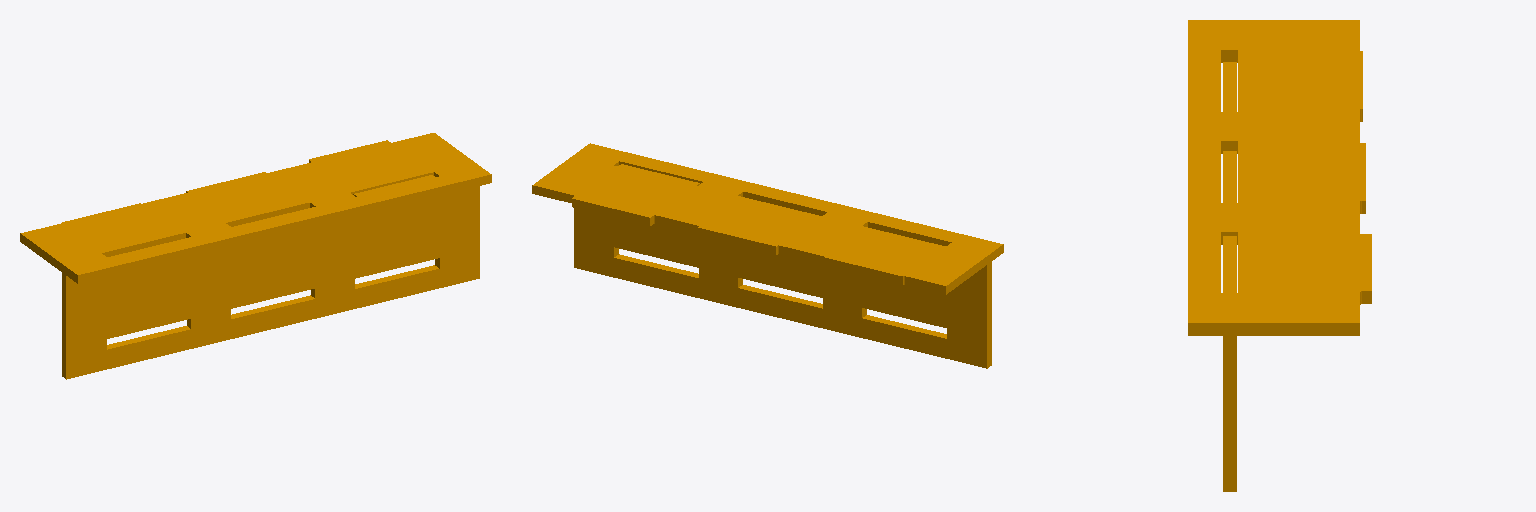
The robot description file, URDF, robot "MortiseTenonJoint":
<?xml version="1.0" encoding="utf-8"?>
<robot xmlns:xacro="http://wiki.ros.org/xacro" name="MortiseTenonJoint" params="prefix">
  <link name="Mortise_Tenon_Joint_link">
    <inertial>
      <origin xyz="-0.34511 0.10147 0.053717" rpy="0 0 0" />
      <mass value="10.387" />
      <inertia ixx="0.034636" ixy="-0.0016985" ixz="-0.0013353" iyy="0.48099" iyz="0.00040264" izz="0.48354" />
    </inertial>

    <visual>
      <origin xyz="0 0 0" rpy="0 0 0" />
      <geometry>
        <mesh filename="package://processit_support/data/KogRob/MortiseTenonJoint/MortiseTenonJoint.STL" scale="0.001 0.001 0.001"/>
      </geometry>
    </visual>

    <collision>
      <origin xyz="0 0 0" rpy="0 0 0" />
      <geometry>
        <mesh filename="package://processit_support/data/KogRob/MortiseTenonJoint/MortiseTenonJoint.STL" scale="0.001 0.001 0.001"/>
      </geometry>
    </collision>
  </link>

  <gazebo reference="Mortise_Tenon_Joint_link">
    <material>Gazebo/Orange</material>
    <turnGravityOff>true</turnGravityOff>
  </gazebo>
</robot>

--- Facts derived from the render (not from the file) ---
Views: 3 orthographic renders of the robot side by side, from view 1: azimuth 30°, elevation 25°; view 2: azimuth 150°, elevation 25°; view 3: azimuth 270°, elevation 25°.
Model MortiseTenonJoint with 1 links and 0 joints (none), rooted at Mortise_Tenon_Joint_link, posed every joint at zero.
Visible links, largest first — view 1: Mortise_Tenon_Joint_link; view 2: Mortise_Tenon_Joint_link; view 3: Mortise_Tenon_Joint_link.
Link boxes in pixels (x1,y1,x2,y2): Mortise_Tenon_Joint_link: (20,133,491,379); Mortise_Tenon_Joint_link: (532,143,1003,368); Mortise_Tenon_Joint_link: (1188,20,1371,491).
Size in the robot's own frame: 0.25 by 0.064 by 0.065 metres.
Meshes: 1 distinct files referenced, 1 mesh visuals loaded (1 binary STL).